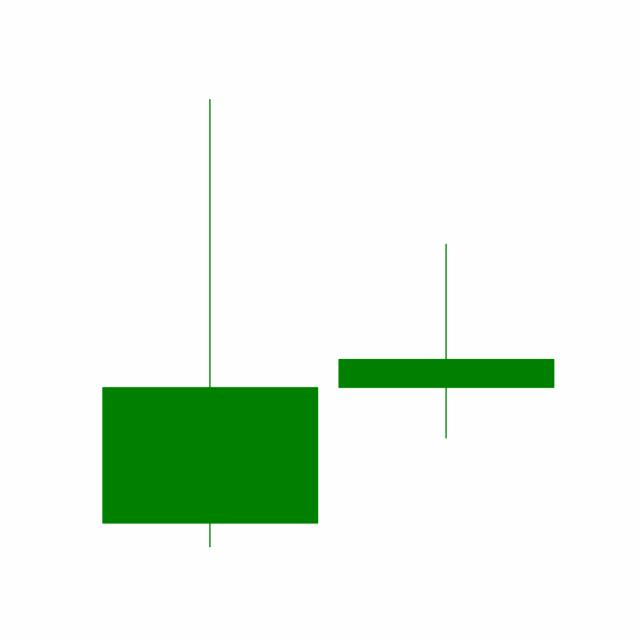Gravestone Doji: (327, 241, 565, 441)
